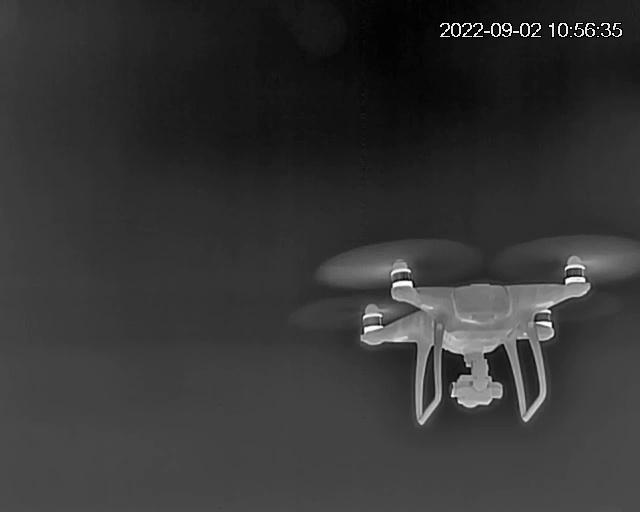DJI-Phantom: (308, 242, 640, 421)
